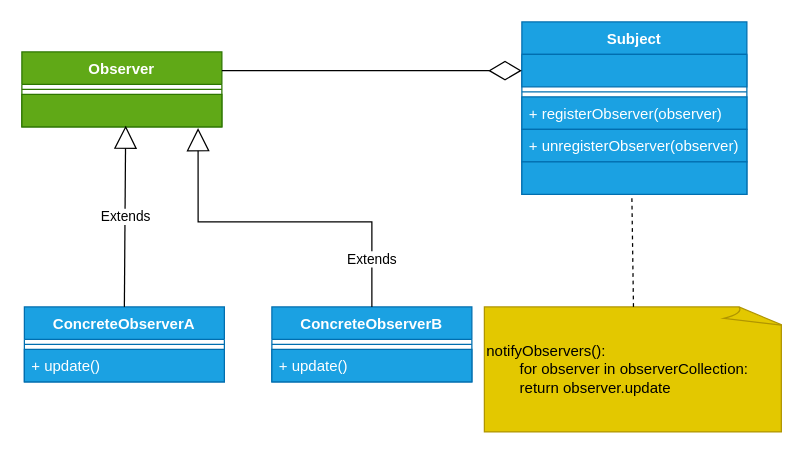
This 806x454 diagram has some shape labels left out. The shapes that lost their labels are listed below. From the top down, each one's centre as x and y in pixels, then its label:
At (634,70): "+ fobserverCollection".
At (121,110): "+udate()".
At (634,177): "+ notifyObserver()".
